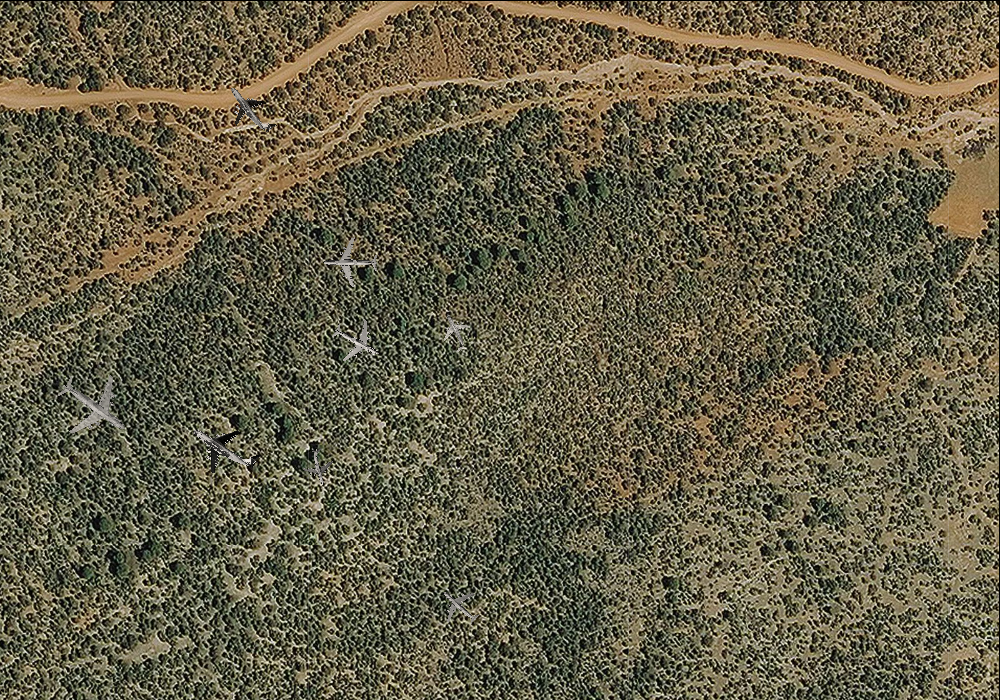plane: (41, 355, 145, 458), (178, 401, 272, 493), (214, 71, 288, 147), (323, 308, 390, 374), (429, 576, 489, 636), (323, 237, 377, 287), (429, 306, 479, 358), (297, 444, 340, 489)
